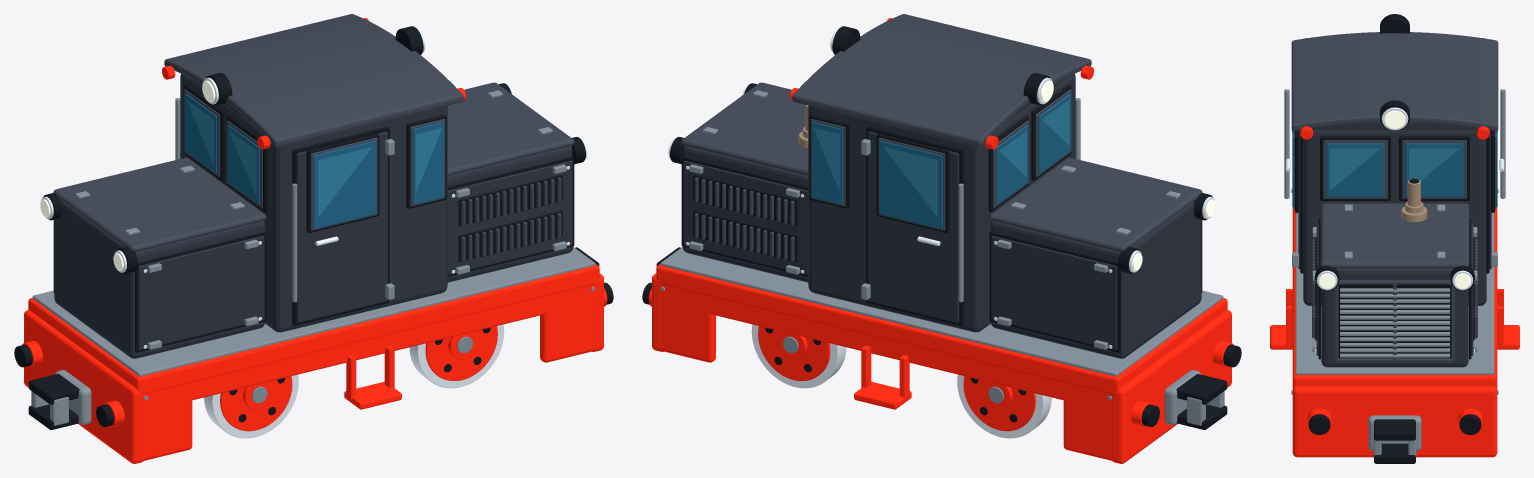
File: c50-handbuilt.glb
3 renders of one model, left to right at view 1: azimuth 30°, elevation 25°; view 2: azimuth 150°, elevation 25°; view 3: azimuth 270°, elevation 25°, orthographic. The views are drawn at different scales.
Visible parts, largest first — view 1: Gently curved roof, Central cab, Hood lid, Inspection panel, Straight rectangular deck, Rear hood, Door, Dark non-slip deck surface, Long straight frame beam, Hood lid.001, End buffer beam, Inspection panel.002 (+29 smaller); view 2: Gently curved roof, Central cab, Hood lid, Inspection panel.001, Straight rectangular deck, Rear hood, Door.001, Dark non-slip deck surface, Long straight frame beam.001, Hood lid.001, End buffer beam, Inspection panel.003 (+29 smaller); view 3: Gently curved roof, End buffer beam.001, Hood lid.001, Central cab, Dark non-slip deck surface, Front hood, Radiator inset, Straight rectangular deck, Cab end glass.002, Cab end glass.003, Diagonal glass reflection.006, Diagonal glass reflection.007 (+48 smaller).
Boxes of the visible parts, box(x1,y1,x2,y2) form: Gently curved roof: box(164, 14, 463, 147); Central cab: box(180, 74, 447, 332); Hood lid: box(53, 157, 266, 252); Inspection panel: box(138, 235, 264, 350); Straight rectangular deck: box(28, 264, 599, 394); Rear hood: box(54, 201, 265, 358); Door: box(296, 131, 387, 322); Dark non-slip deck surface: box(32, 247, 595, 376); Long straight frame beam: box(143, 284, 594, 410); Hood lid.001: box(447, 82, 574, 175); End buffer beam: box(24, 310, 143, 463); Inspection panel.002: box(447, 160, 572, 274); Gently curved roof: box(792, 14, 1091, 147); Central cab: box(808, 74, 1075, 332); Hood lid: box(989, 157, 1202, 252); Inspection panel.001: box(991, 235, 1117, 350); Straight rectangular deck: box(656, 264, 1227, 394); Rear hood: box(990, 201, 1201, 358); Door.001: box(868, 131, 959, 322); Dark non-slip deck surface: box(660, 247, 1223, 376); Long straight frame beam.001: box(661, 284, 1112, 410); Hood lid.001: box(681, 82, 808, 175); End buffer beam: box(1112, 310, 1231, 463); Inspection panel.003: box(683, 160, 808, 274); Gently curved roof: box(1291, 32, 1498, 131); End buffer beam.001: box(1292, 386, 1497, 457); Hood lid.001: box(1320, 203, 1469, 268); Central cab: box(1303, 130, 1486, 305); Dark non-slip deck surface: box(1295, 212, 1494, 374); Front hood: box(1321, 268, 1468, 367); Radiator inset: box(1338, 284, 1451, 358); Straight rectangular deck: box(1292, 207, 1497, 388); Cab end glass.002: box(1326, 143, 1384, 196); Cab end glass.003: box(1405, 143, 1463, 196); Diagonal glass reflection.006: box(1330, 148, 1380, 190); Diagonal glass reflection.007: box(1409, 148, 1459, 180).
Bounding box in the file's own units: 5.46 × 3.11 × 2.32.
